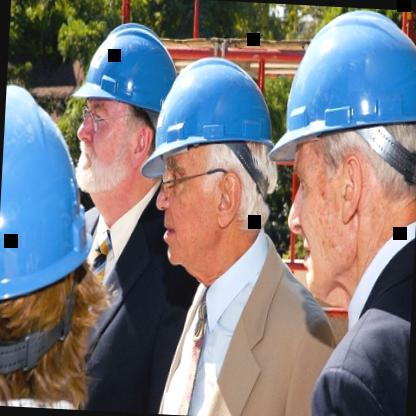helmet: (264, 3, 416, 316), (132, 24, 287, 318), (0, 58, 114, 403), (62, 0, 187, 224)
